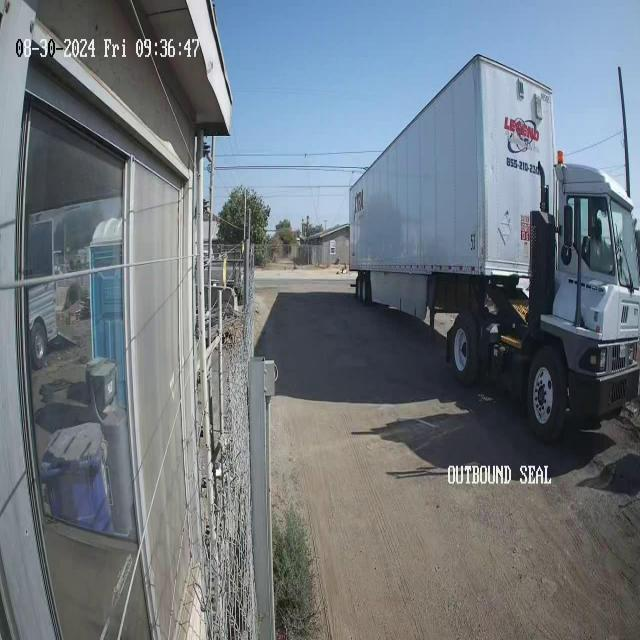TRUCK_IN: (348, 53, 639, 443)
